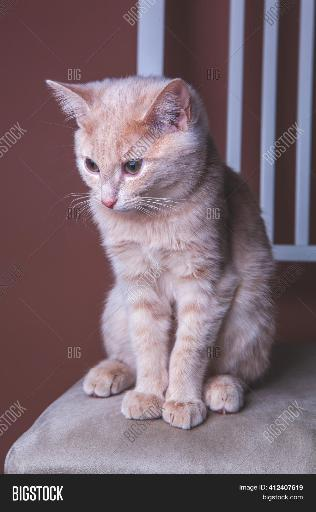cat_sitting: (46, 76, 275, 429)
